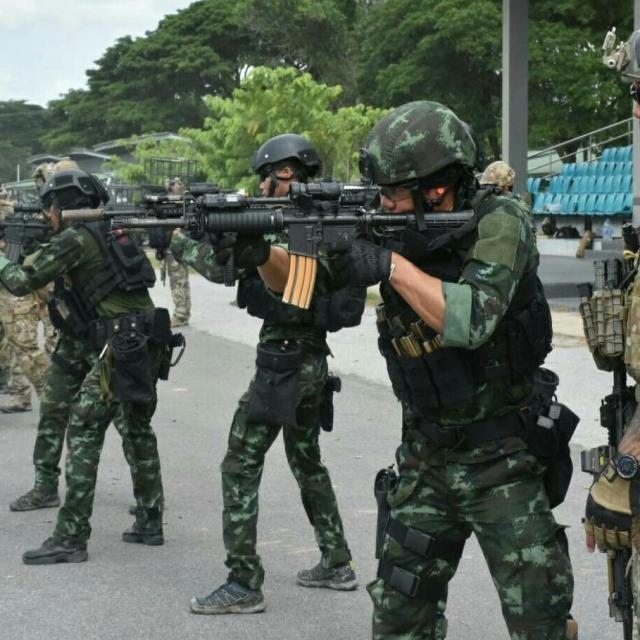m16: (111, 175, 534, 318)
